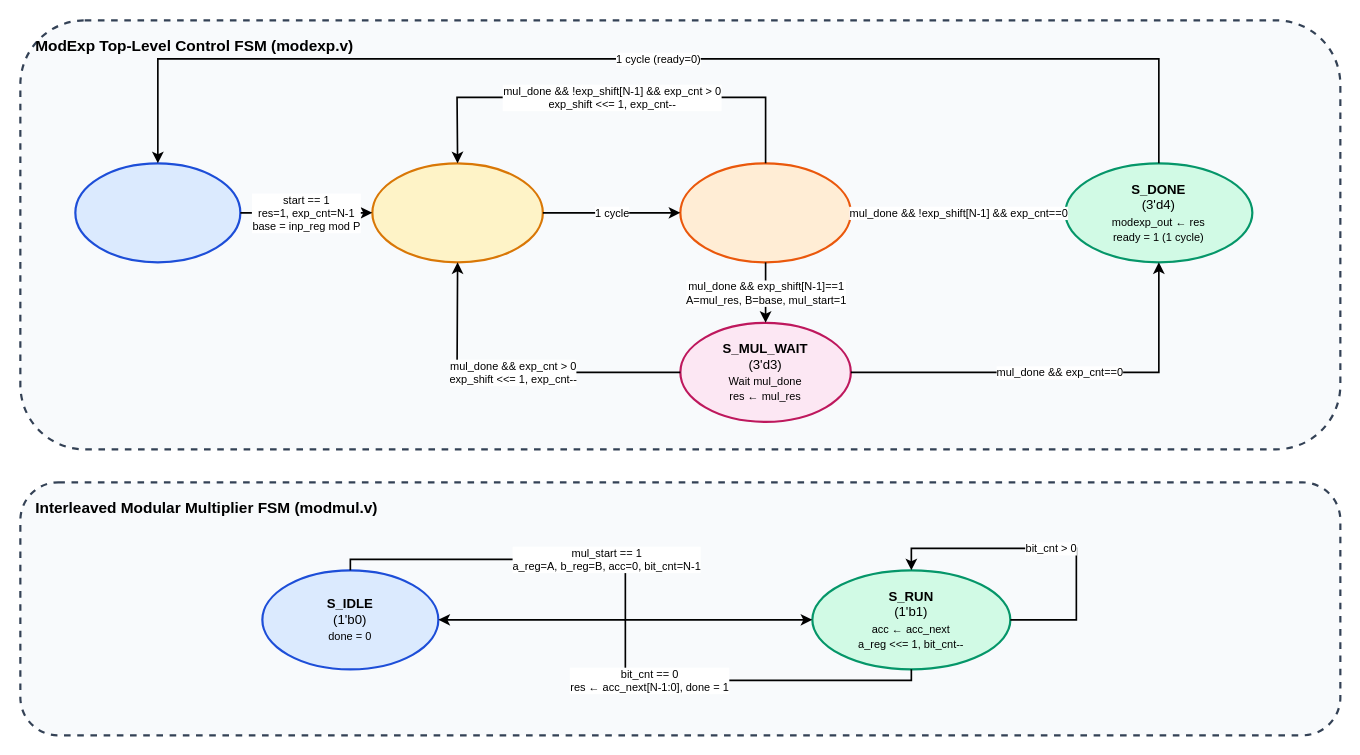
Image size: 1360x755. Some labels were removed from this diagram. Here are the shapes that lost their labels. From the top down, the centre of each, then its label:
At (x=157, y=212): "S_IDLE (3'd0) ready=0, mul_start=0".
At (x=457, y=212): "S_SQ_START (3'd1) A=res, B=res mul_start=1".
At (x=765, y=212): "S_SQ_WAIT (3'd2) Wait mul_done res ← mul_res".
